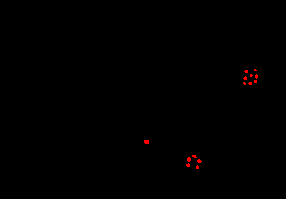Target: (144, 140, 149, 144), (187, 157, 191, 162), (197, 159, 202, 163), (243, 76, 247, 80), (186, 163, 190, 167), (255, 74, 258, 79), (192, 155, 197, 158), (244, 70, 248, 73), (248, 82, 252, 85), (196, 165, 199, 169), (250, 74, 253, 77), (254, 80, 257, 83), (243, 82, 246, 85), (254, 69, 257, 71)
